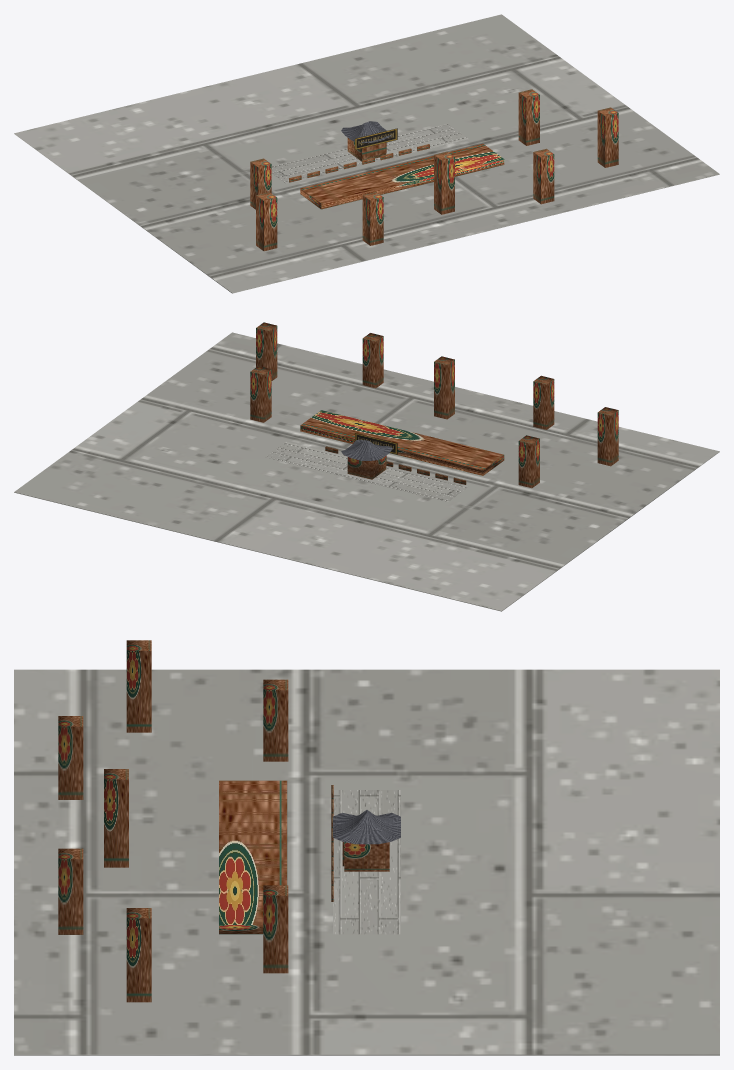
3 views of the same model, one above another, from view 1: azimuth 30°, elevation 25°; view 2: azimuth 150°, elevation 25°; view 3: azimuth 270°, elevation 25° (orthographic). The views are drawn at different scales.
Parts seen in each view (by area): view 1: 11140_02_04621_028_01_L2__base, 11140_02_04621_028_06_L2__green, 11140_02_04621_028_02_L2__body, 11140_02_04621_028_05_L2__openings, 11140_02_04621_028_03_L2__roof, 11140_02_04621_028_04_L2__sign; view 2: 11140_02_04621_028_01_L2__base, 11140_02_04621_028_06_L2__green, 11140_02_04621_028_02_L2__body, 11140_02_04621_028_03_L2__roof; view 3: 11140_02_04621_028_01_L2__base, 11140_02_04621_028_06_L2__green, 11140_02_04621_028_02_L2__body, 11140_02_04621_028_03_L2__roof.
Part boxes in pixels (x1,y1,x2,y2): 11140_02_04621_028_01_L2__base: (14,14,719,293); 11140_02_04621_028_06_L2__green: (250,89,618,251); 11140_02_04621_028_02_L2__body: (300,138,504,209); 11140_02_04621_028_05_L2__openings: (289,142,429,182); 11140_02_04621_028_03_L2__roof: (341,121,391,142); 11140_02_04621_028_04_L2__sign: (355,128,397,149); 11140_02_04621_028_01_L2__base: (14,332,719,611); 11140_02_04621_028_06_L2__green: (250,322,618,488); 11140_02_04621_028_02_L2__body: (300,410,504,479); 11140_02_04621_028_03_L2__roof: (341,439,392,460); 11140_02_04621_028_01_L2__base: (14,669,719,1055); 11140_02_04621_028_06_L2__green: (58,640,288,1002); 11140_02_04621_028_02_L2__body: (219,780,389,934); 11140_02_04621_028_03_L2__roof: (333,810,400,844).
Size of the model in its own units: 80 by 8.6 by 62.
Materials: 5 (5 with a texture image).
